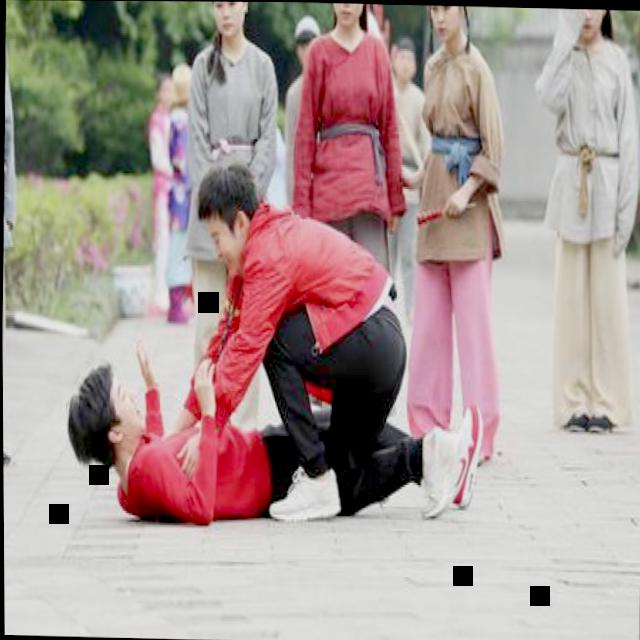Fall-Detected: (56, 327, 478, 529)
